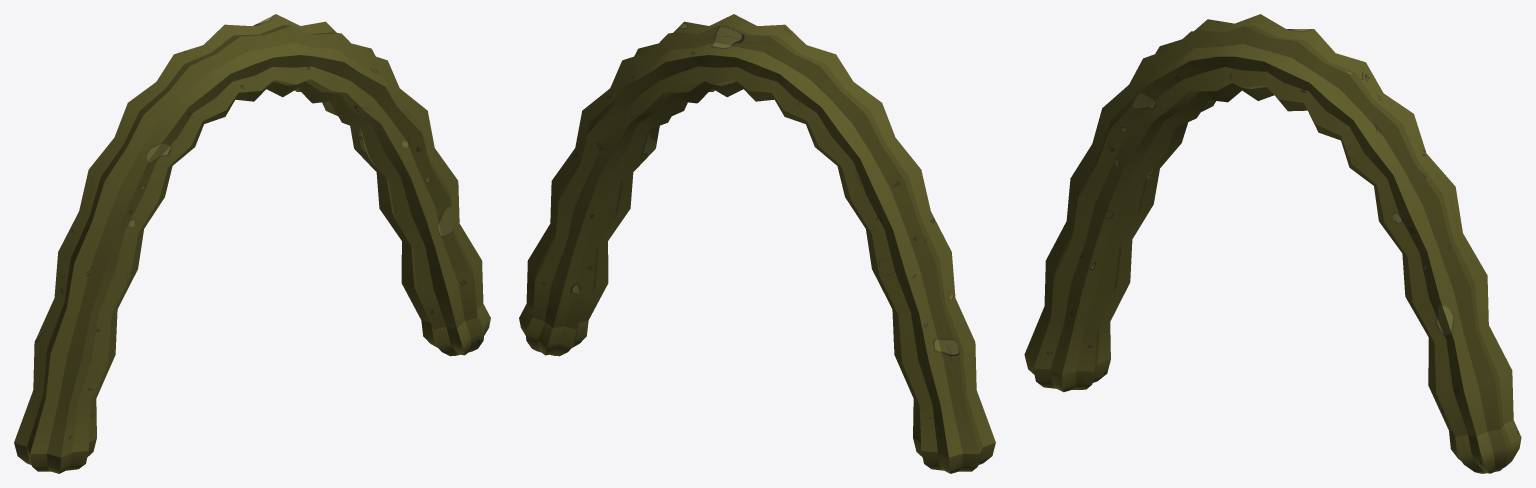
The model's file is BigCactus_3.fbx.
3 renders of one model, left to right at view 1: azimuth 30°, elevation 25°; view 2: azimuth 150°, elevation 25°; view 3: azimuth 330°, elevation 25°, orthographic. The views are drawn at different scales.
Visible parts, largest first — view 1: Cactus; view 2: Cactus; view 3: Cactus.
Boxes of the visible parts, x1=… form: Cactus: x1=14, y1=14, x2=490, y2=473; Cactus: x1=519, y1=14, x2=995, y2=473; Cactus: x1=1024, y1=14, x2=1521, y2=473.
Size of the model in its own units: 1428 by 207 by 1161.
